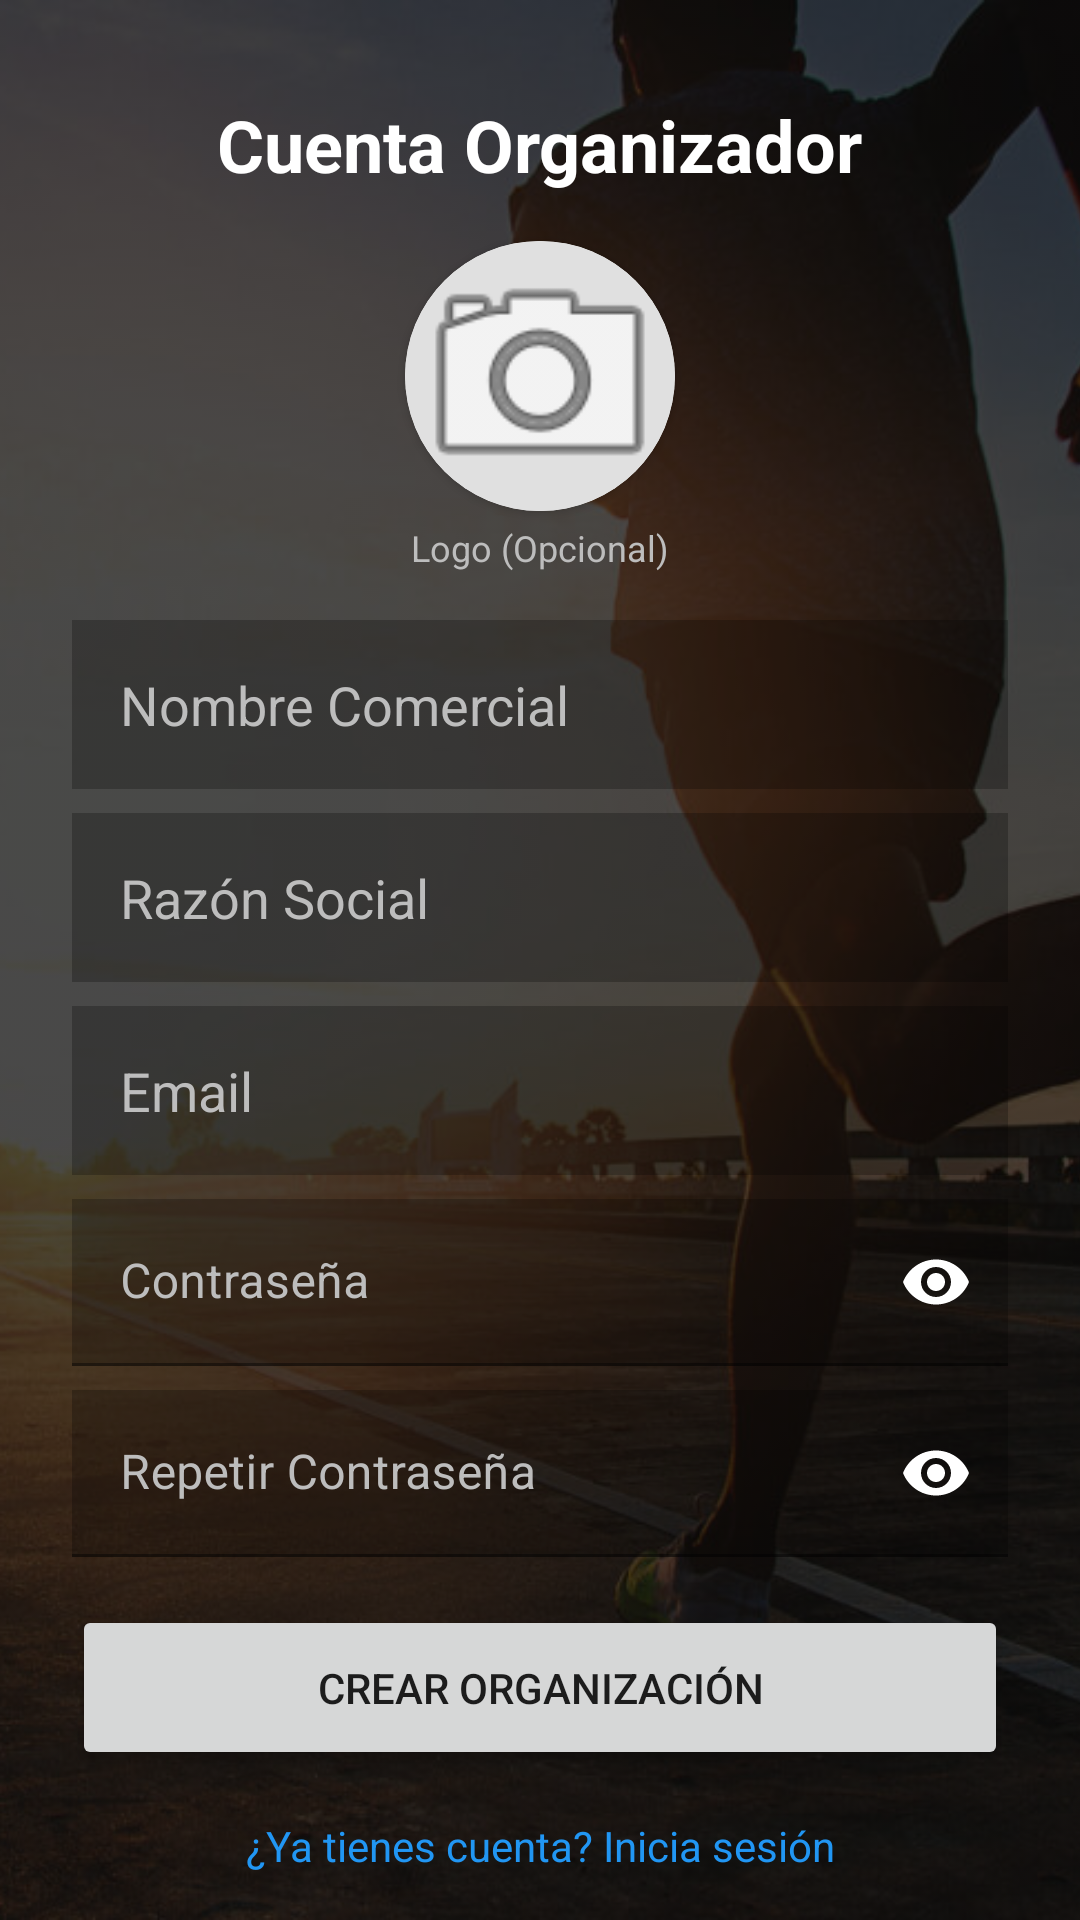

Point at icon controls on the screen. Image size 1080w x 1920h, points as (x,y).
camera: (540,376)
